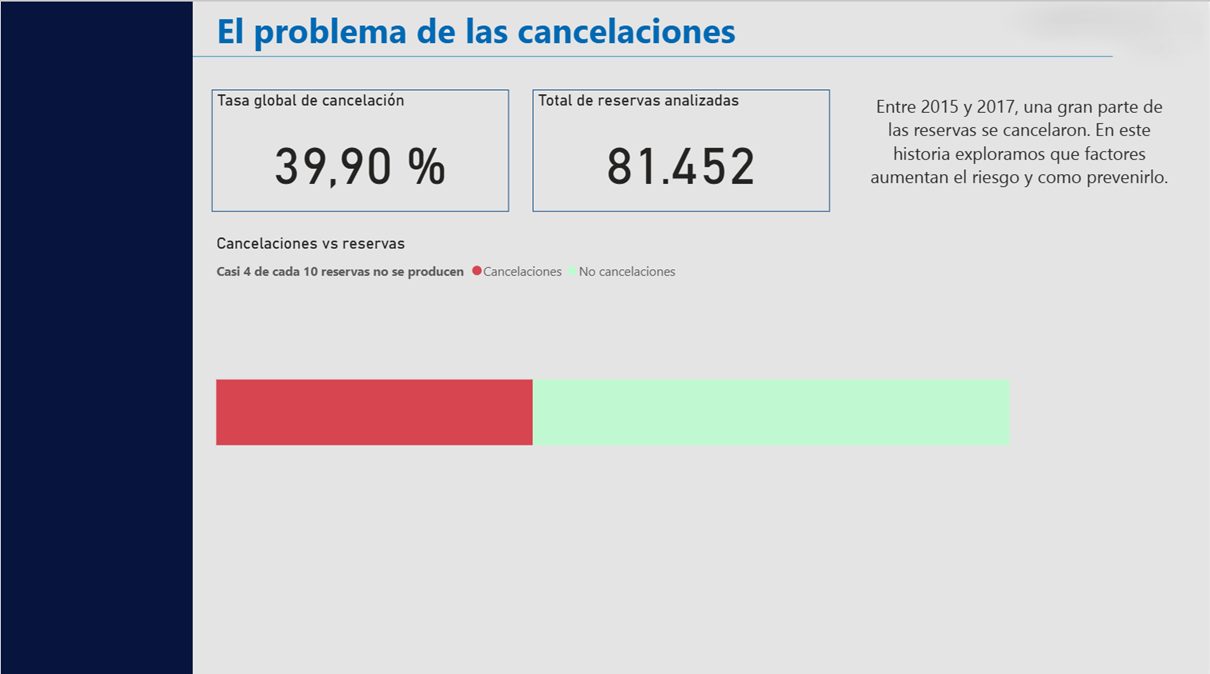

The dashboard page shown, as its layout file describes it:
{"tool":"powerbi","page":{"name":"El problema de las cancelaciones","canvas":[1280,720],"ordinal":0},"visuals":[{"type":"card","title":"Tasa global de cancelación","fields":{"Values":["Medidas.CancelRate"]},"box":[223.7,93.4,315.1,129.4],"z":0},{"type":"card","title":"Total de reservas analizadas","fields":{"Values":["Medidas.Bookings"]},"box":[564.1,93.4,315.1,129.4],"z":1000},{"type":"textbox","box":[223.7,0,690.6,64.2],"z":2000},{"type":"barChart","title":"Cancelaciones vs reservas","fields":{"Y":["Medidas.Cancellations","Medidas.No cancelaciones"]},"box":[223.7,246.1,939.6,327.8],"z":3000},{"type":"textbox","box":[914.3,93.4,332.6,168.3],"z":4000}]}

Visuals, with their boxes in screenshot pixels (x1, y1, x2, y2), scaled from the page's 1280x720 canvas onto the 1210x674 screenshot:
"Tasa global de cancelación" card: <box>211,87,509,209</box>
"Total de reservas analizadas" card: <box>533,87,831,209</box>
textbox: <box>211,0,864,60</box>
"Cancelaciones vs reservas" barChart: <box>211,230,1100,537</box>
textbox: <box>864,87,1179,245</box>
